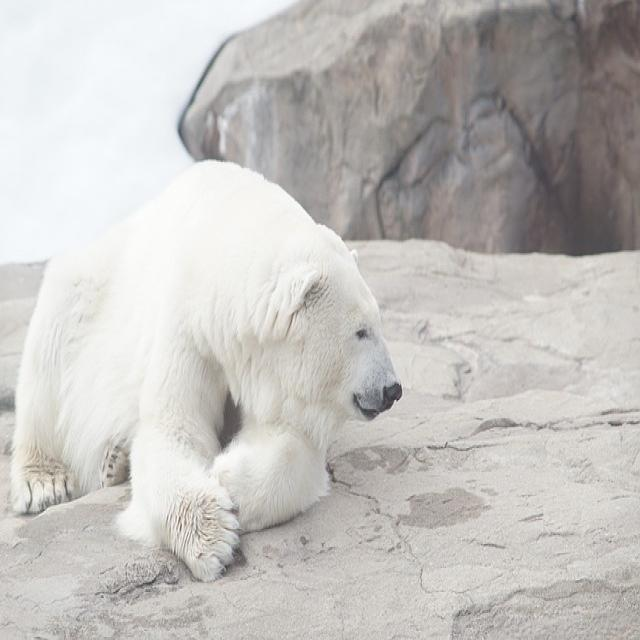Carnivorous: (5, 160, 404, 585)
